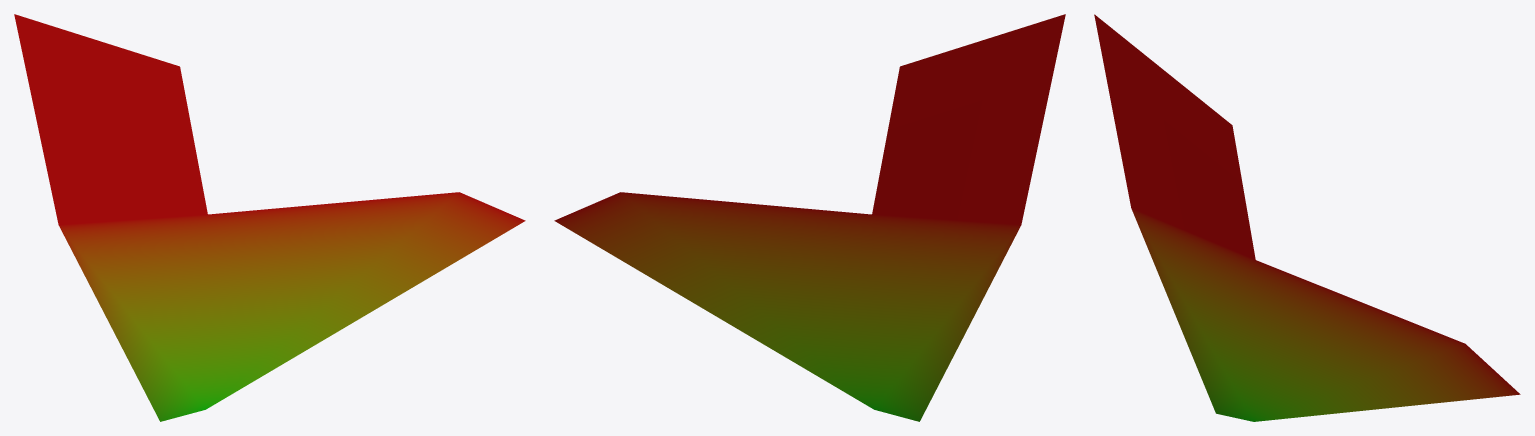
File: Raspberry_LOD4_Var6_wf0oefeja.fbx
3 renders of one model, left to right at view 1: azimuth 30°, elevation 25°; view 2: azimuth 150°, elevation 25°; view 3: azimuth 330°, elevation 25°, orthographic. The views are drawn at different scales.
Visible parts, largest first — view 1: _fzx4_Var6_LOD4; view 2: _fzx4_Var6_LOD4; view 3: _fzx4_Var6_LOD4.
Boxes of the visible parts, x1=… form: _fzx4_Var6_LOD4: x1=14, y1=14, x2=525, y2=421; _fzx4_Var6_LOD4: x1=554, y1=14, x2=1065, y2=421; _fzx4_Var6_LOD4: x1=1094, y1=14, x2=1520, y2=421.
Size of the model in its own units: 77.37 by 64.1 by 7.64e-06.
